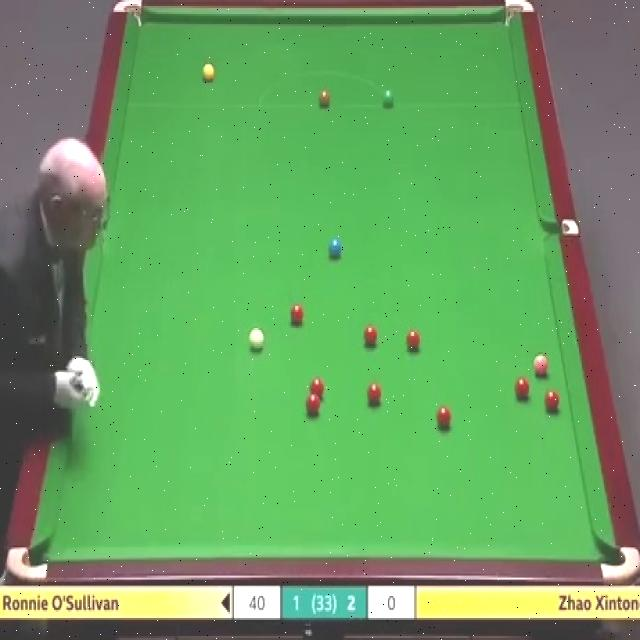blue-ball: (329, 235, 342, 261)
brown-ball: (318, 90, 332, 108)
green-ball: (381, 87, 396, 109)
pink-ball: (532, 355, 550, 375)
red-ball: (304, 392, 320, 418), (435, 406, 452, 430), (513, 376, 531, 397), (366, 382, 381, 407), (308, 376, 324, 399), (407, 328, 421, 353), (545, 388, 560, 411), (362, 326, 376, 350), (290, 302, 303, 325)
white-ball: (248, 327, 264, 354)
yellow-ball: (203, 64, 215, 84)
